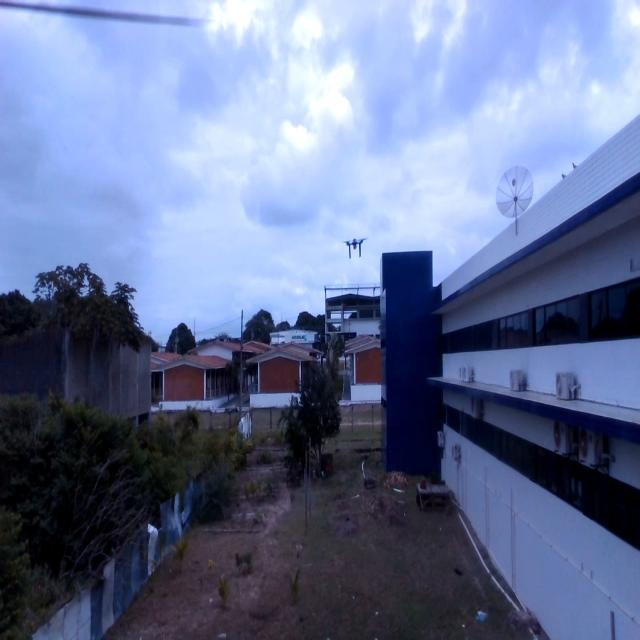-uav-: (340, 227, 372, 276)
